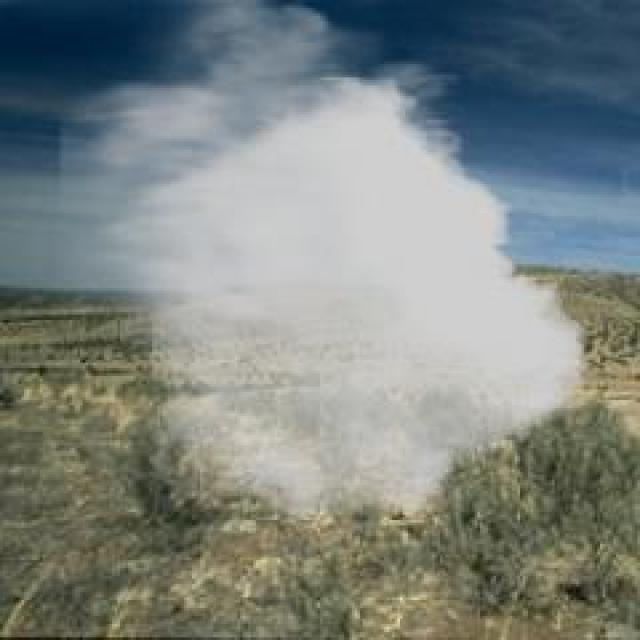Smoke: (106, 6, 584, 525)
